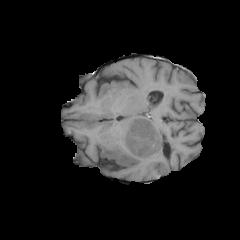glioma: (101, 116, 177, 172)
